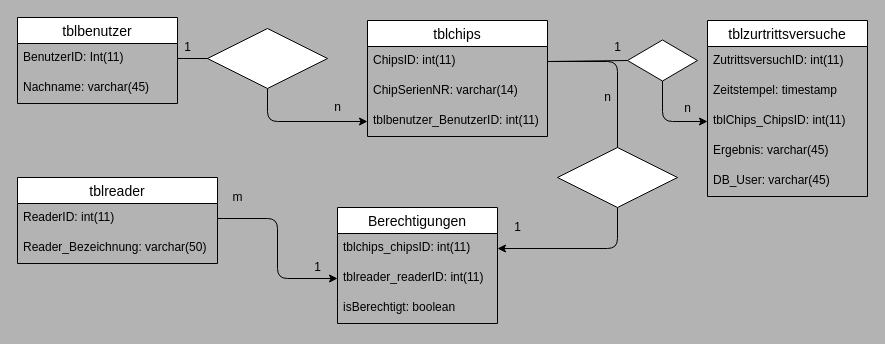
Some shapes in this 885 by 344 pixel diagram are drawn without their labels. Each missing label, with the centre of its shape:
Berechtigt: point 617,177
besitzt: point 267,58
erzeugt: point 662,60
